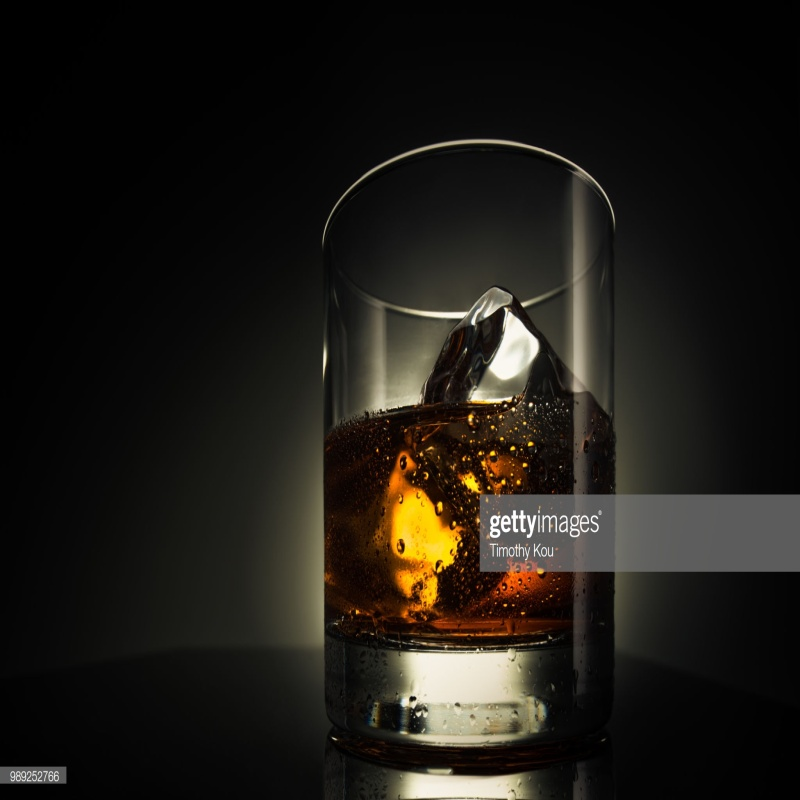whiskey: (311, 141, 627, 758)
